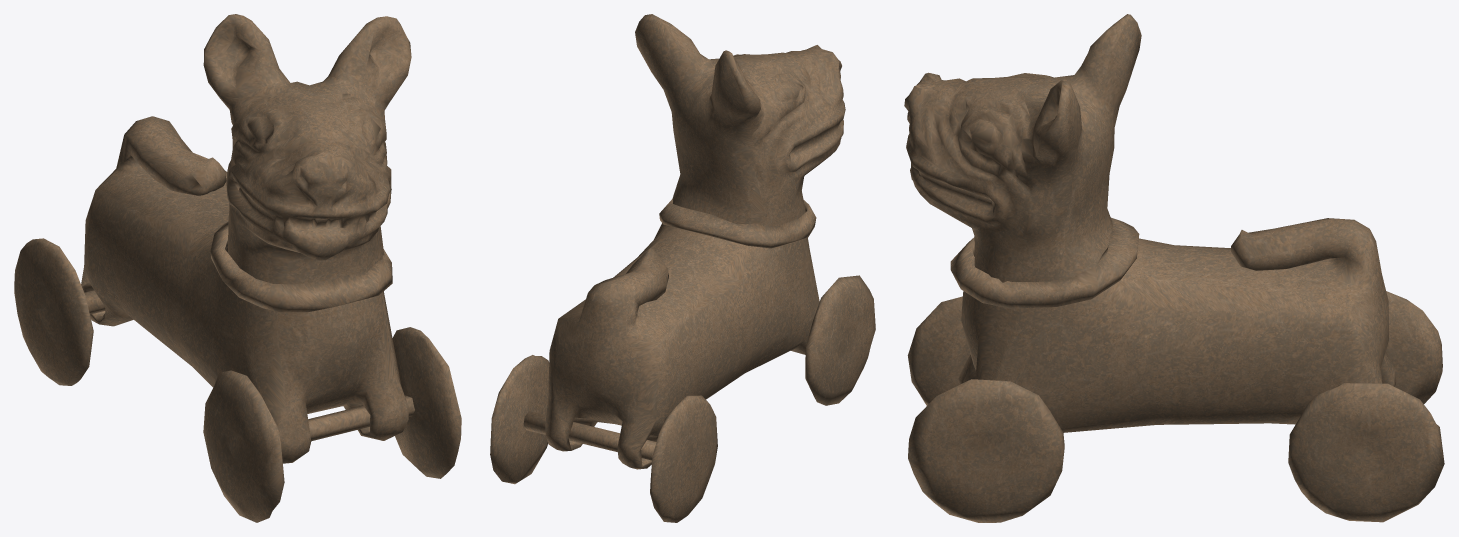
File: chuchito.gltf
3 views of the same model, side by side, from view 1: azimuth 30°, elevation 25°; view 2: azimuth 150°, elevation 25°; view 3: azimuth 270°, elevation 25° (orthographic). The views are drawn at different scales.
Parts seen in each view (by area): view 1: Chuchito_chuchito; view 2: Chuchito_chuchito; view 3: Chuchito_chuchito.
Part boxes in pixels (left/top/right/bottom): Chuchito_chuchito: left=14, top=14, right=461, bottom=522; Chuchito_chuchito: left=490, top=14, right=875, bottom=522; Chuchito_chuchito: left=904, top=14, right=1444, bottom=522.
Bounding box in the file's own units: 17.75 × 34.29 × 37.49.
Materials: 1 (1 with a texture image).
